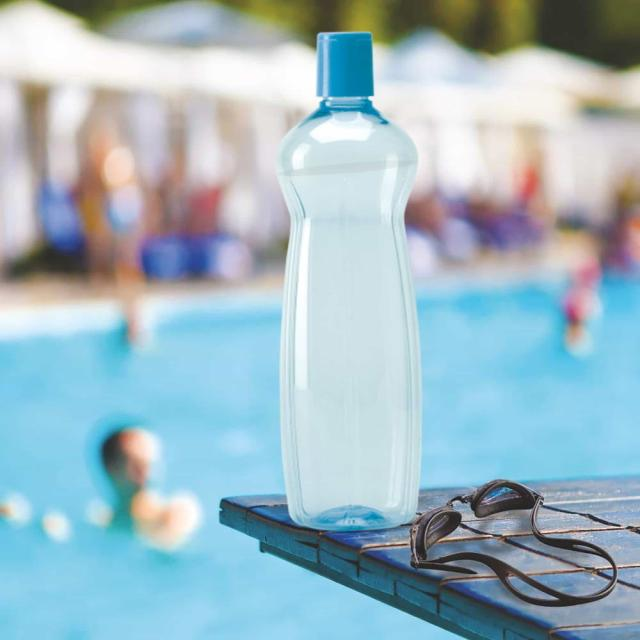plastic_bottle: (260, 23, 451, 547)
